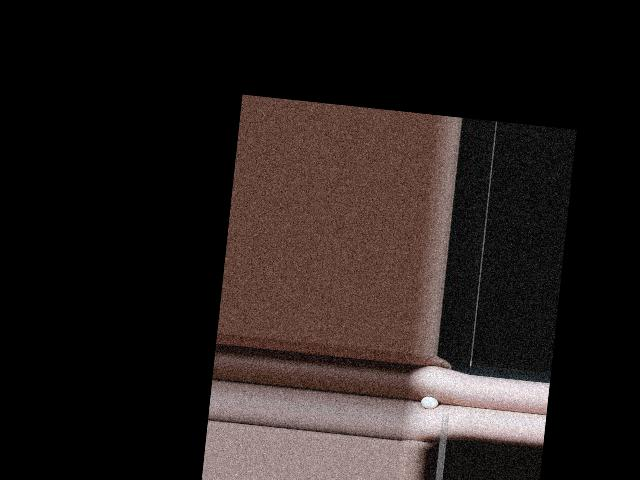egg: (421, 395, 439, 410)
